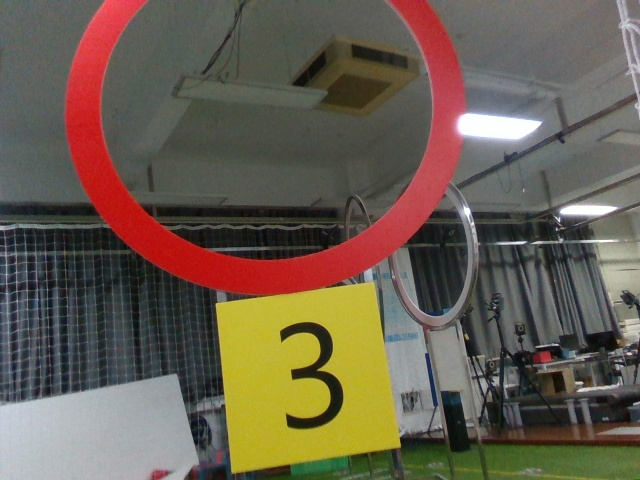target: (235, 307, 389, 449)
